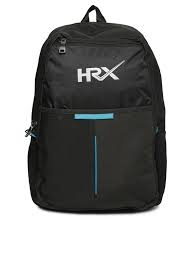backpack: (24, 4, 167, 213)
